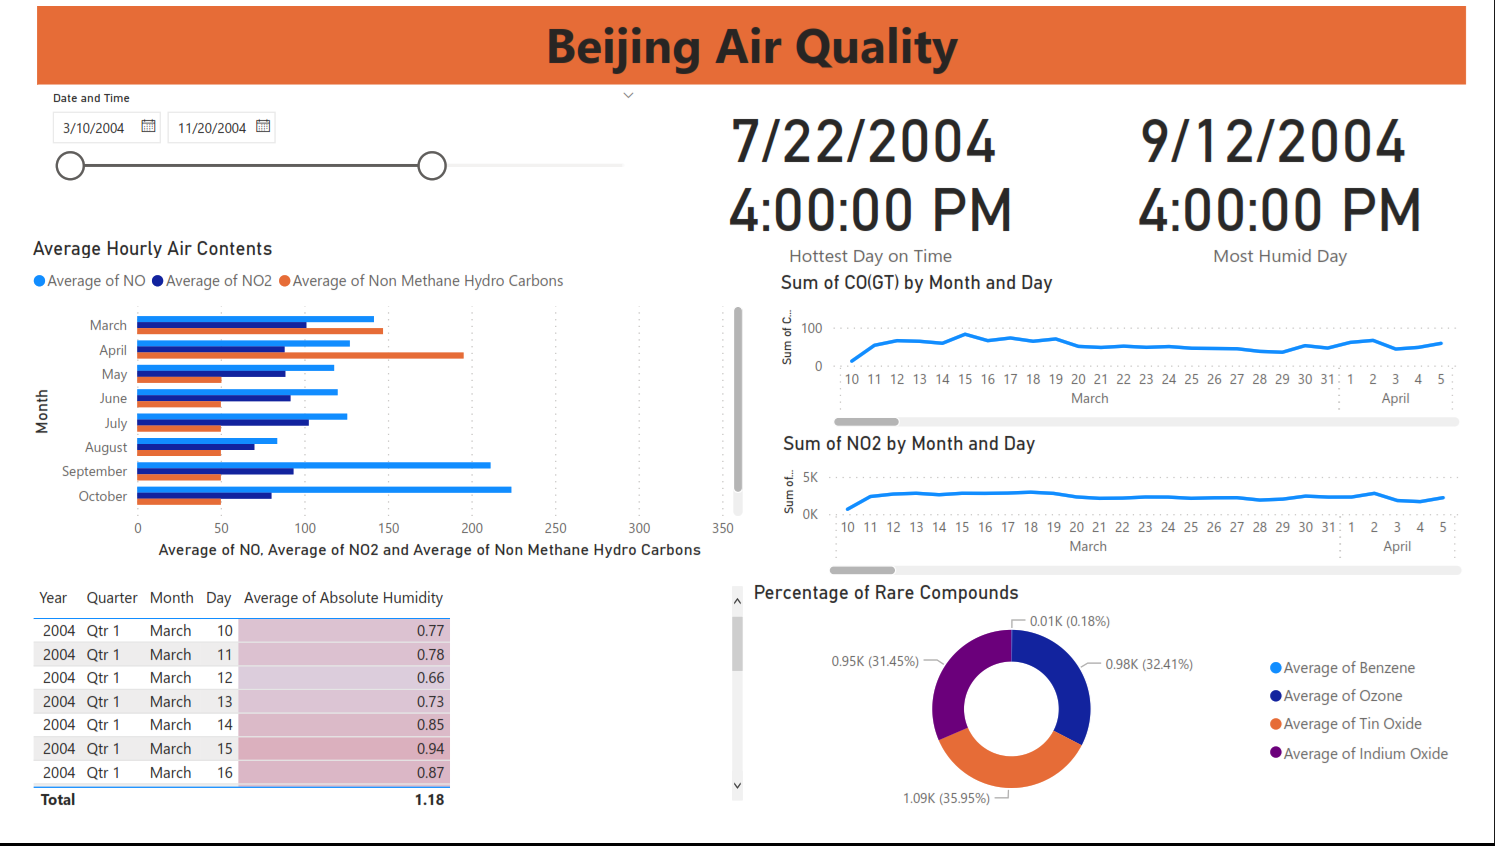

The page's visual inventory and layout, read from the dashboard file:
{"tool":"powerbi","page":{"name":"Page 1","canvas":[1280,720],"ordinal":0},"visuals":[{"type":"textbox","box":[9.4,0,1269.9,69.9],"z":0},{"type":"card","fields":{"Values":["AirQualityUCI.Hottest Day on Time"]},"box":[551.7,69.6,396.4,166.7],"z":1000},{"type":"card","fields":{"Values":["AirQualityUCI.Most Humid Day"]},"box":[948.1,69.6,331.7,166.7],"z":2000},{"type":"clusteredBarChart","title":"Average Hourly Air Contents","fields":{"Y":["Avg(AirQualityUCI.NO)","Avg(AirQualityUCI.NO2)","Avg(AirQualityUCI.Non Methane Hydro Carbons)"],"Category":["AirQualityUCI.Date and Time.Variation.Date Hierarchy.Month","AirQualityUCI.Date and Time.Variation.Date Hierarchy.Day"]},"box":[0,205.5,640.7,289.6],"z":3000},{"type":"lineChart","fields":{"Category":["AirQualityUCI.Date and Time.Variation.Date Hierarchy.Month","AirQualityUCI.Date and Time.Variation.Date Hierarchy.Day"],"Y":["Sum(AirQualityUCI.NO2)"]},"box":[666.6,378.6,613.2,132.7],"z":4000},{"type":"lineChart","fields":{"Y":["Sum(AirQualityUCI.CO(GT))"],"Category":["AirQualityUCI.Date and Time.Variation.Date Hierarchy.Month","AirQualityUCI.Date and Time.Variation.Date Hierarchy.Day"]},"box":[665,236.2,613.2,142.4],"z":5000},{"type":"slicer","fields":{"Values":["AirQualityUCI.Date and Time"]},"box":[9.7,69.6,542,135.9],"z":6000},{"type":"donutChart","title":"Percentage of Rare Compounds","fields":{"Y":["Avg(AirQualityUCI.Benzene)","Avg(AirQualityUCI.Ozone)","Avg(AirQualityUCI.Tin Oxide)","Avg(AirQualityUCI.Indium Oxide)"]},"box":[640.7,511.3,637.5,208.7],"z":7000},{"type":"tableEx","fields":{"Values":["AirQualityUCI.Date and Time.Variation.Date Hierarchy.Year","AirQualityUCI.Date and Time.Variation.Date Hierarchy.Quarter","AirQualityUCI.Date and Time.Variation.Date Hierarchy.Month","AirQualityUCI.Date and Time.Variation.Date Hierarchy.Day","Avg(AirQualityUCI.Absolute Humidity)"]},"box":[0,511,641,209],"z":8000}]}

Visuals, with their boxes in screenshot pixels (x1, y1, x2, y2), scaled from the page's 1280x720 canvas onto the 1495x846 screenshot:
textbox: 11 0 1494 82
card - AirQualityUCI.Hottest Day on Time: 644 82 1107 278
card - AirQualityUCI.Most Humid Day: 1107 82 1494 278
"Average Hourly Air Contents" clusteredBarChart: 0 241 748 582
lineChart - AirQualityUCI.Date and Time.Variation.Date Hierarchy.Month x AirQualityUCI.Date and Time.Variation.Date Hierarchy.Day: 779 445 1494 601
lineChart - Sum(AirQualityUCI.CO(GT)) x AirQualityUCI.Date and Time.Variation.Date Hierarchy.Month: 777 278 1493 445
slicer - AirQualityUCI.Date and Time: 11 82 644 241
"Percentage of Rare Compounds" donutChart: 748 601 1493 845
tableEx - AirQualityUCI.Date and Time.Variation.Date Hierarchy.Year x AirQualityUCI.Date and Time.Variation.Date Hierarchy.Quarter: 0 600 749 845
